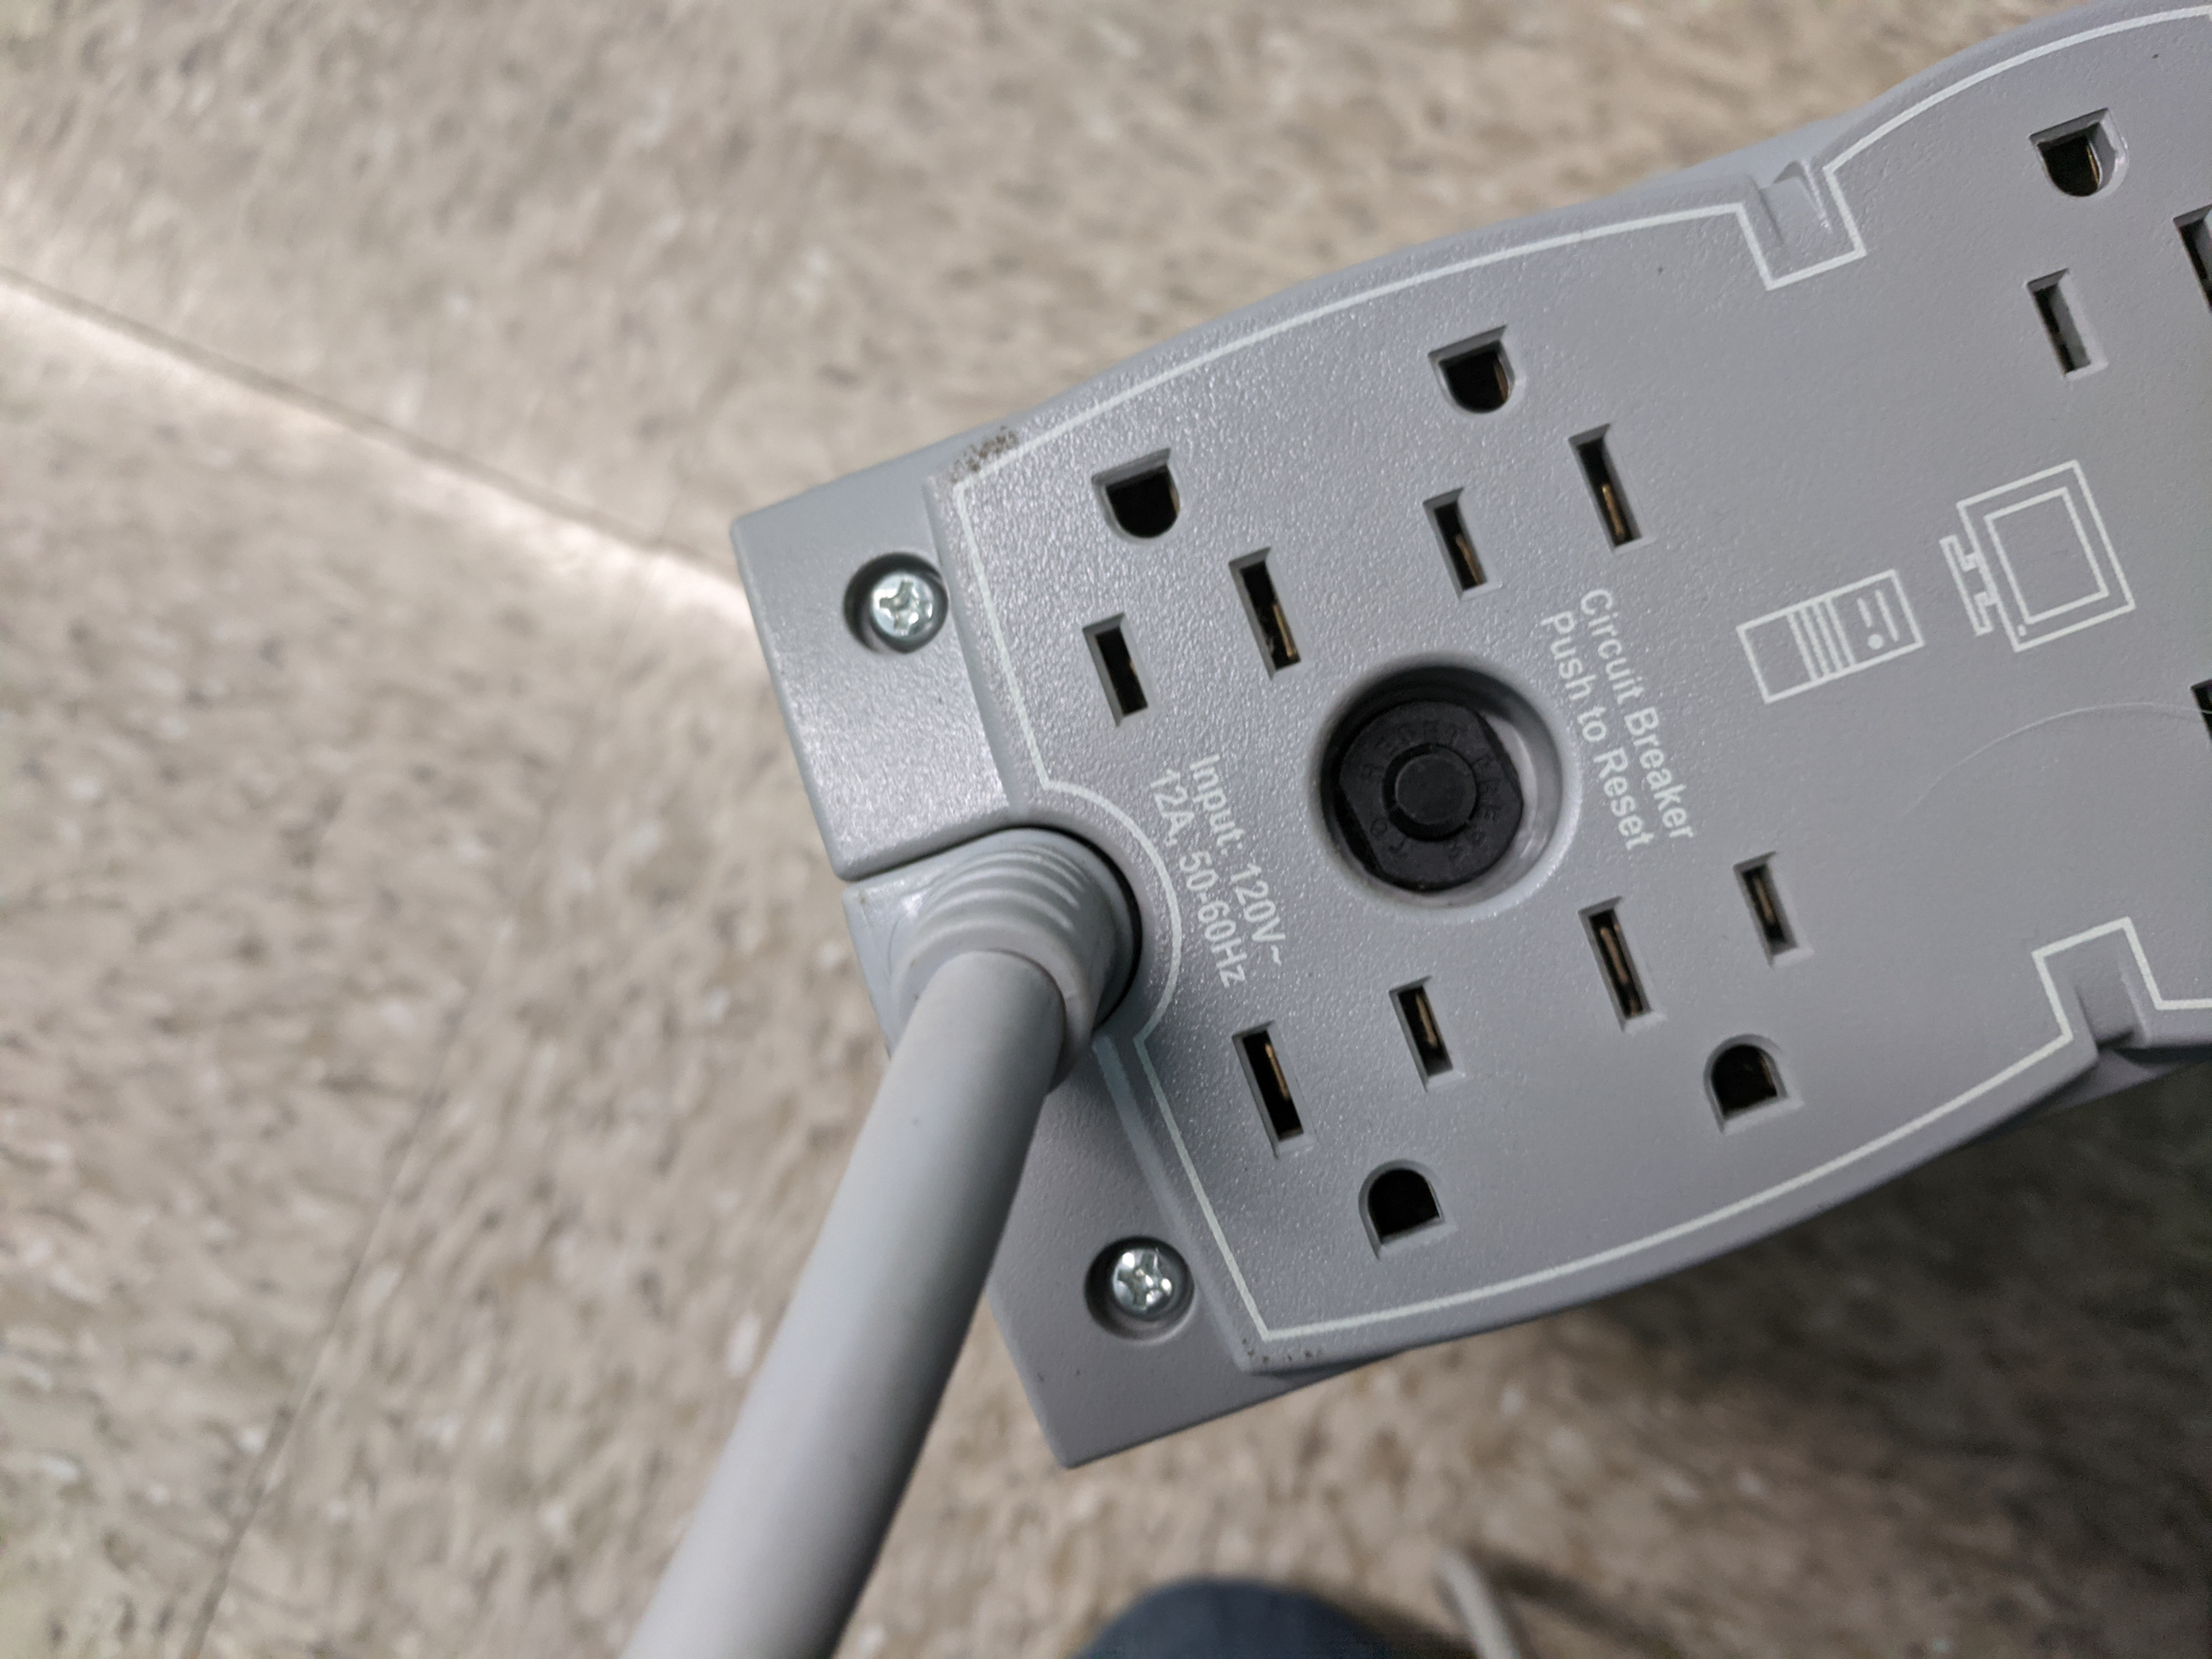cross_recessed_screw: (852, 533, 949, 659), (1103, 1220, 1183, 1331)
